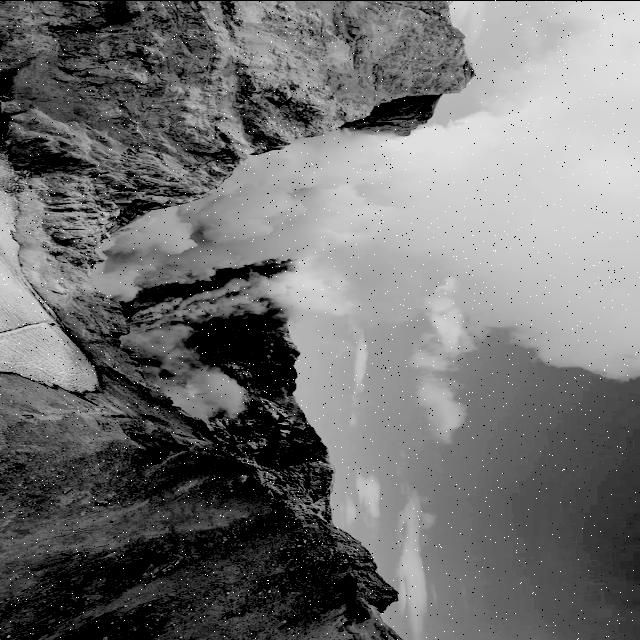asap: (87, 22, 640, 378), (66, 126, 520, 312), (76, 99, 544, 262), (146, 369, 265, 445)
